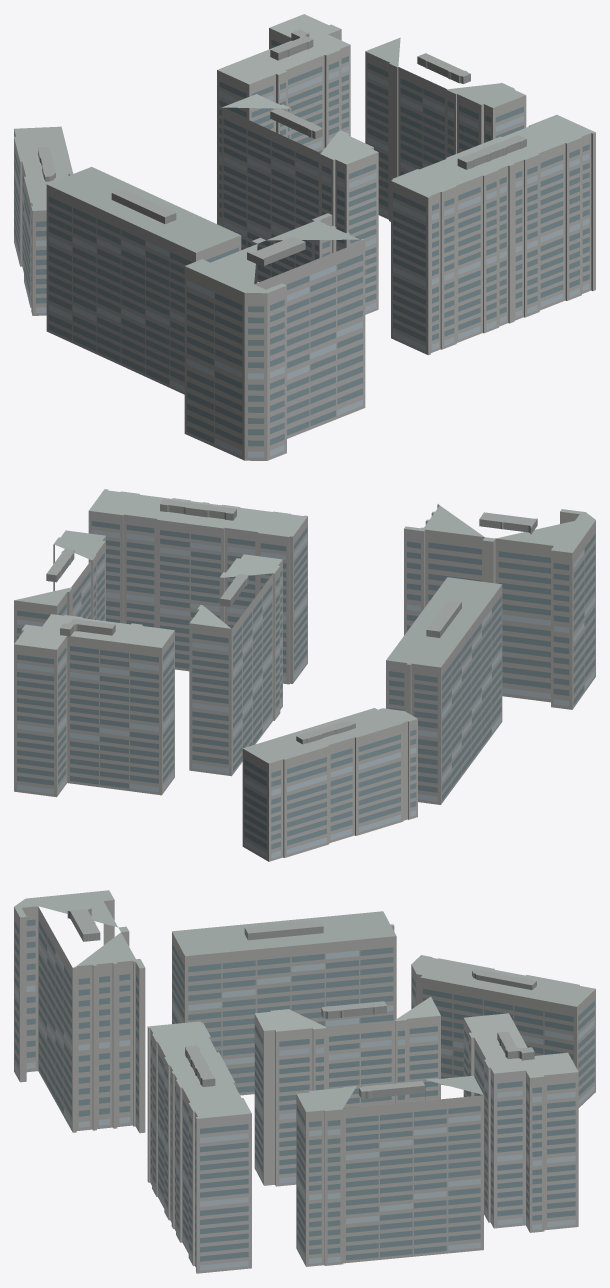
The model's file is apt-a13510006.glb.
The picture shows the model from 3 angles, top to bottom: view 1: azimuth 30°, elevation 25°; view 2: azimuth 150°, elevation 25°; view 3: azimuth 270°, elevation 25°; orthographic projection. The views are drawn at different scales.
Parts seen in each view (by area): view 1: apt-a13510006; view 2: apt-a13510006; view 3: apt-a13510006.
Boxes of the visible parts, bbox=[...] form: apt-a13510006: bbox=[14, 14, 595, 460]; apt-a13510006: bbox=[14, 489, 595, 861]; apt-a13510006: bbox=[14, 890, 595, 1273].
Size of the model in its own units: 130 by 47.81 by 146.
